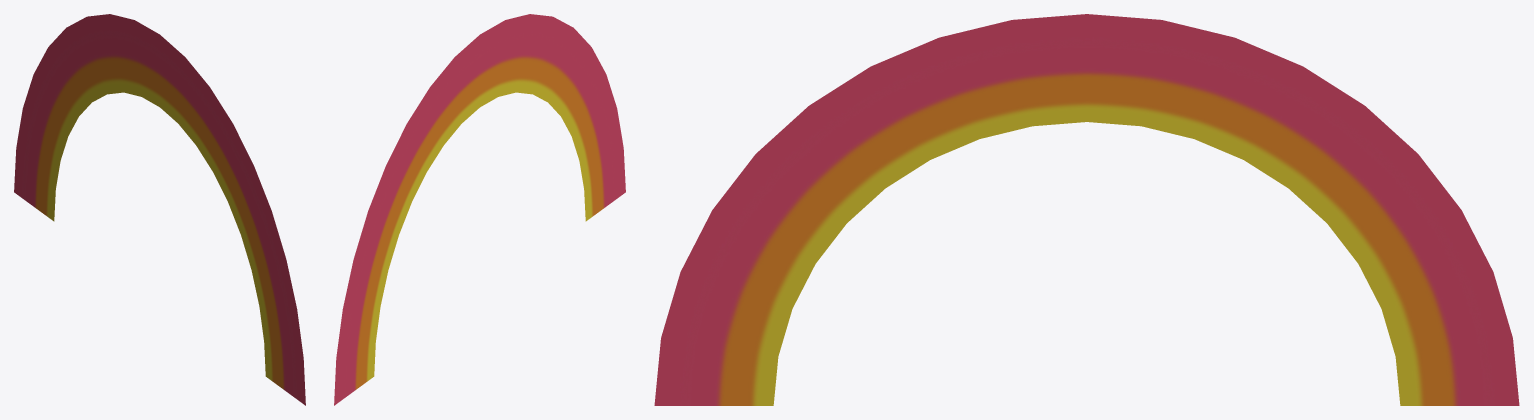
File: Rainbow01.fbx
The picture shows the model from 3 angles, left to right: view 1: azimuth 30°, elevation 25°; view 2: azimuth 150°, elevation 25°; view 3: azimuth 270°, elevation 25°; orthographic projection. The views are drawn at different scales.
Visible parts, largest first — view 1: Rainbow01; view 2: Rainbow01; view 3: Rainbow01.
Part boxes in pixels (x1,y1,x2,y2): Rainbow01: (14, 14, 305, 405); Rainbow01: (334, 14, 625, 405); Rainbow01: (654, 14, 1519, 405).
Bounding box in the file's own units: 4.15e-16 × 3.39 × 6.78.
